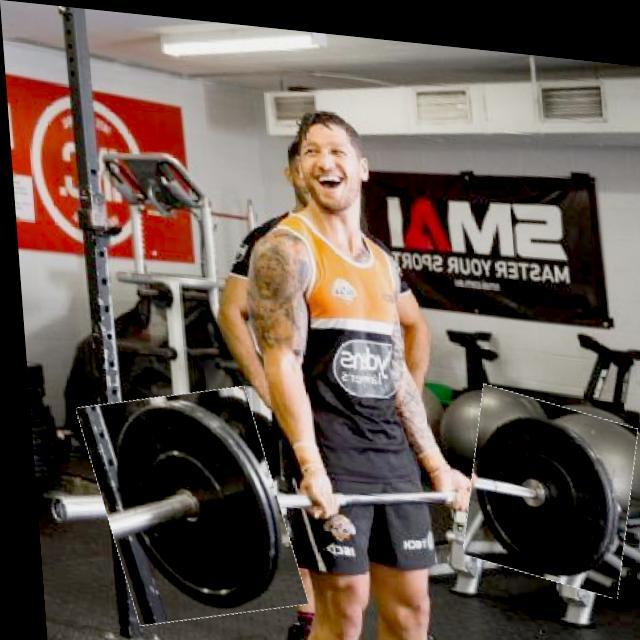barbell: (79, 378, 292, 629), (454, 379, 636, 583)
